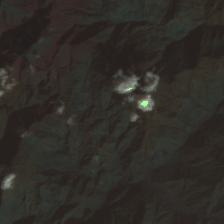landslides: (99, 181, 111, 191)
